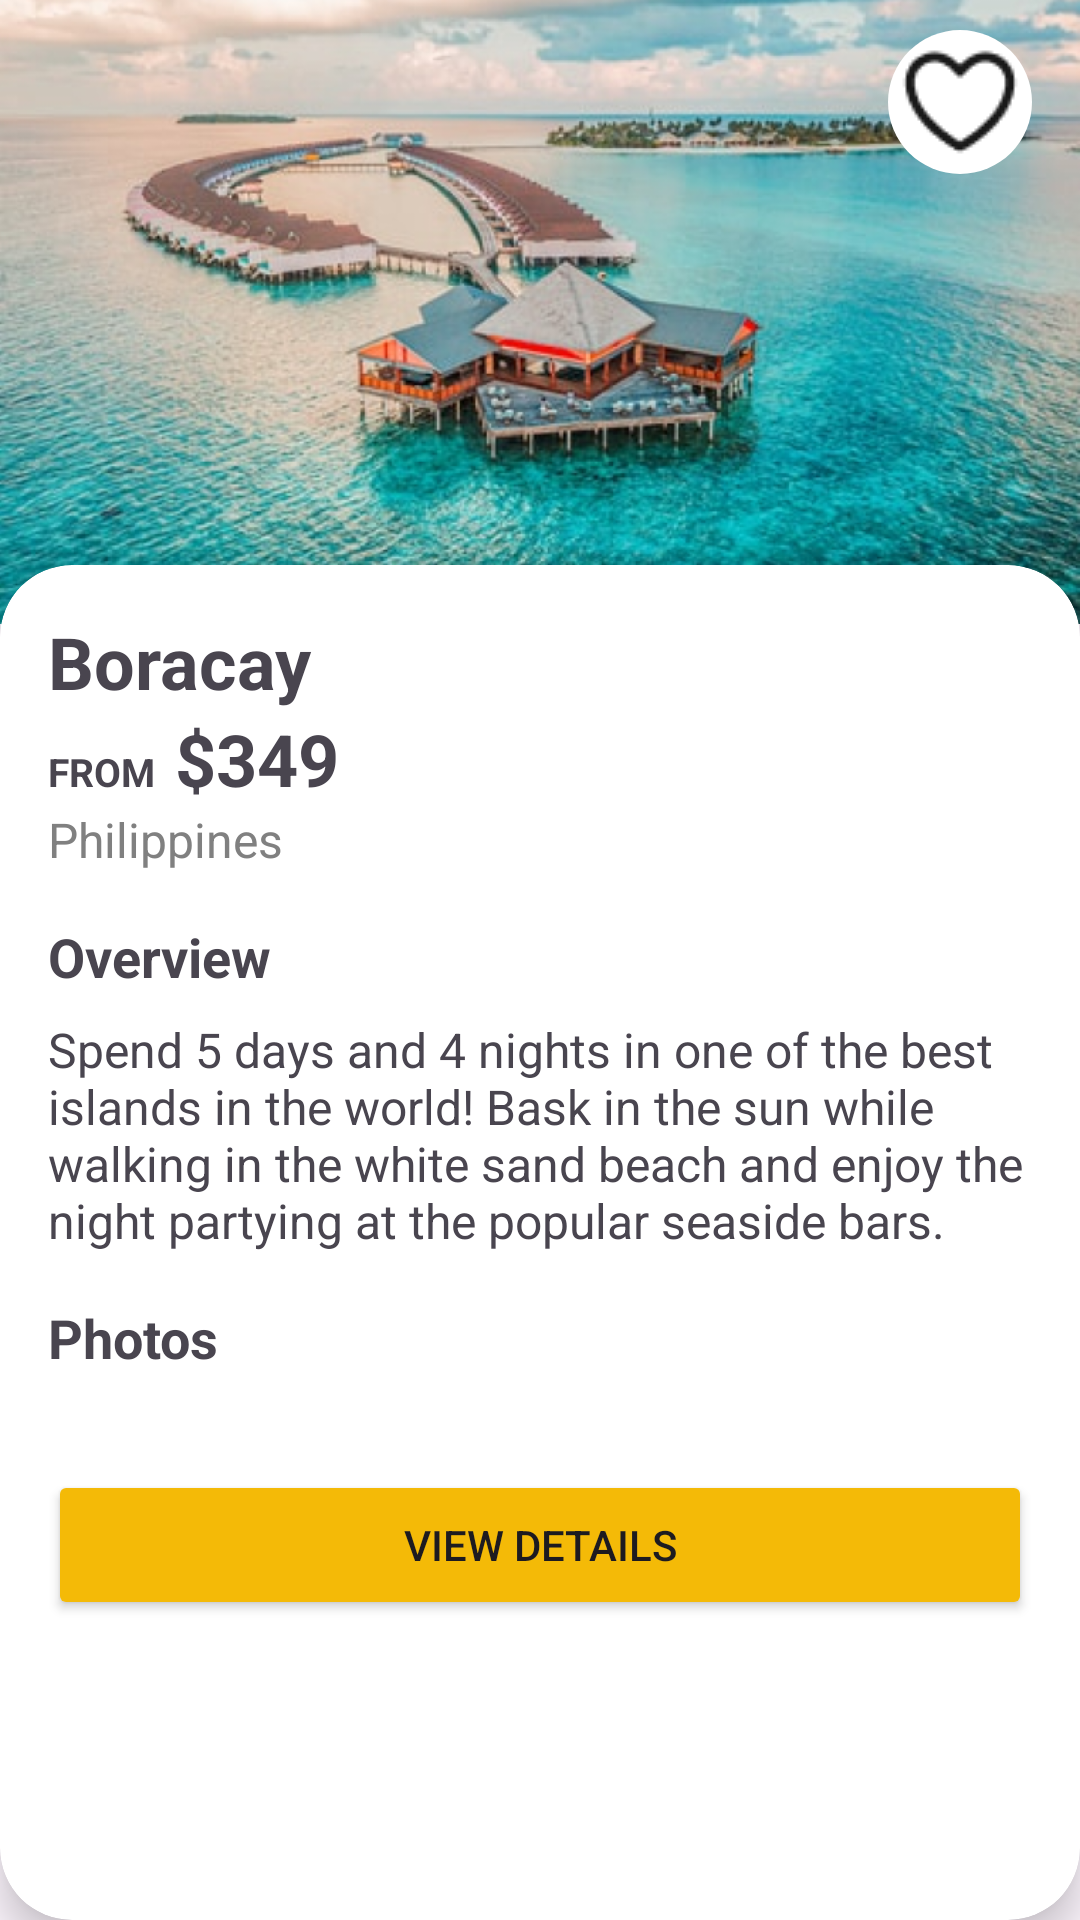

Named icons in this screenshot (1080*1920) and their centers, (x,y):
Favorite: (960,102)
